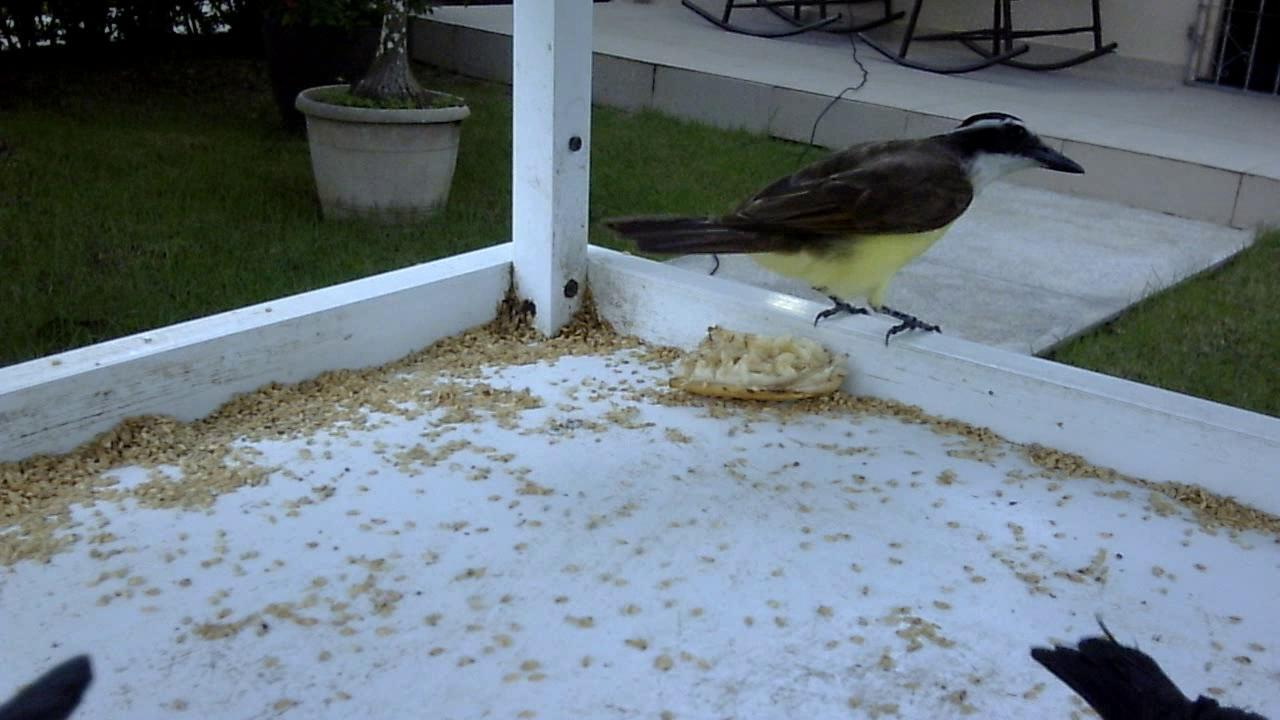bem_te_vi: (591, 81, 1092, 363)
